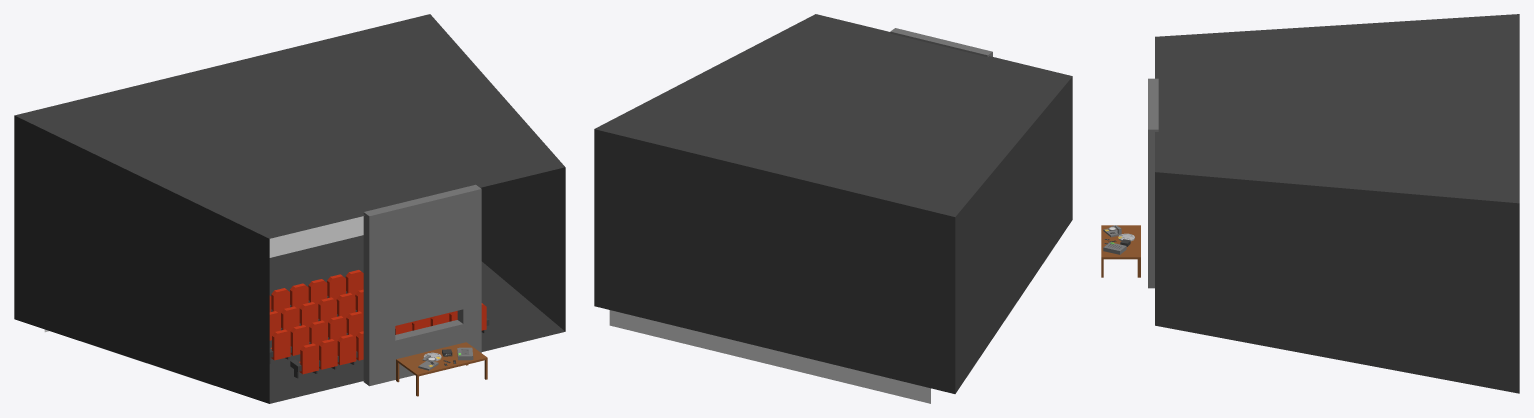
Rendered from PROTOTYPE_GGJ.fbx.
The picture shows the model from 3 angles, left to right: view 1: azimuth 30°, elevation 25°; view 2: azimuth 150°, elevation 25°; view 3: azimuth 270°, elevation 25°; orthographic projection. The views are drawn at different scales.
Visible parts, largest first — view 1: Plane.006, Cube.005, sieges, Salut cest nous cest francetv slash, Cube; view 2: Plane.006, Salut cest nous cest francetv slash, Cube.005; view 3: Plane.006, Cube.005, Cube.
Part boxes in pixels (x1=…): Plane.006: x1=14, y1=14, x2=565, y2=403; Cube.005: x1=363, y1=184, x2=481, y2=386; sieges: x1=269, y1=270, x2=489, y2=378; Salut cest nous cest francetv slash: x1=44, y1=216, x2=363, y2=332; Cube: x1=396, y1=342, x2=487, y2=396; Plane.006: x1=594, y1=14, x2=1072, y2=393; Salut cest nous cest francetv slash: x1=609, y1=310, x2=930, y2=403; Cube.005: x1=890, y1=28, x2=992, y2=57; Plane.006: x1=1155, y1=14, x2=1519, y2=393; Cube.005: x1=1148, y1=78, x2=1158, y2=288; Cube: x1=1101, y1=225, x2=1140, y2=277.
Bounding box in the file's own units: 4019 × 2123 × 3750.
